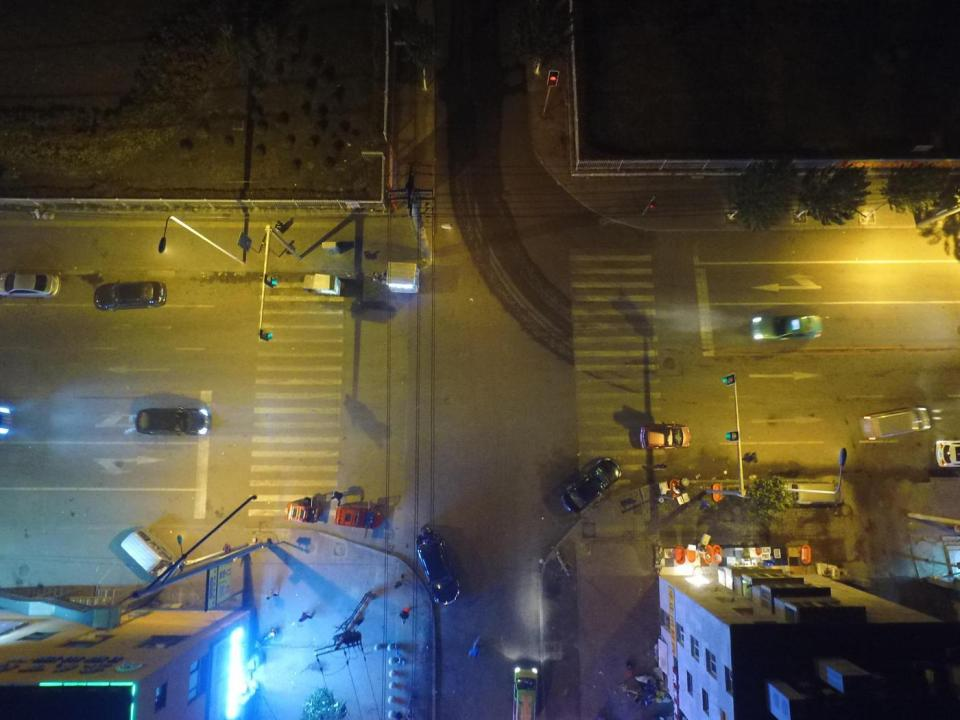car: (561, 458, 622, 513), (415, 531, 459, 605), (135, 407, 211, 436), (94, 280, 167, 310), (752, 315, 822, 340), (1, 271, 60, 297), (640, 421, 690, 451), (934, 440, 960, 466)
van: (120, 529, 182, 583), (862, 408, 930, 437), (781, 482, 843, 505), (513, 667, 538, 720)
